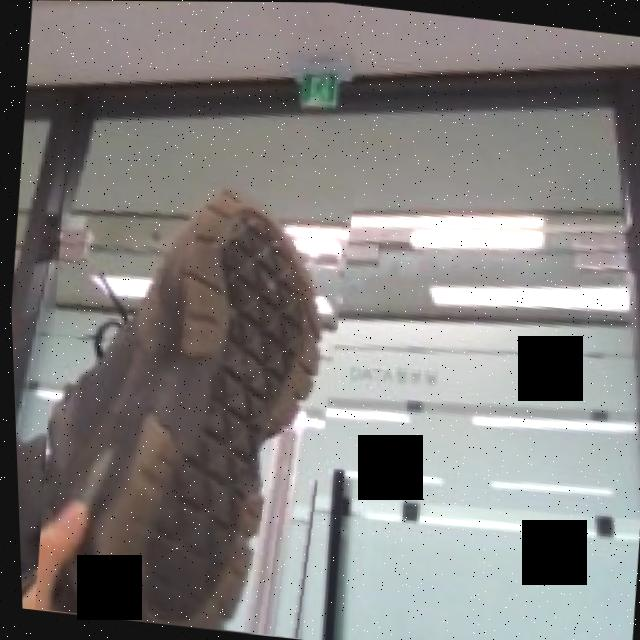shoe: (16, 141, 369, 640)
